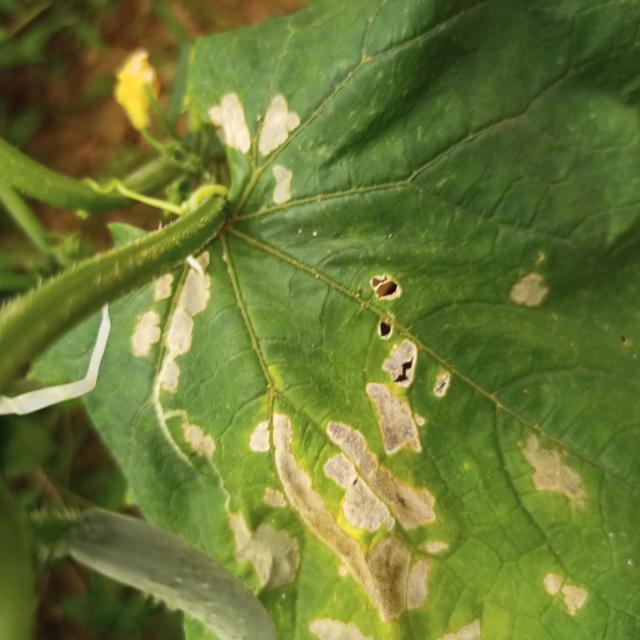disease_cucumber: (132, 251, 587, 640), (207, 90, 299, 206)
